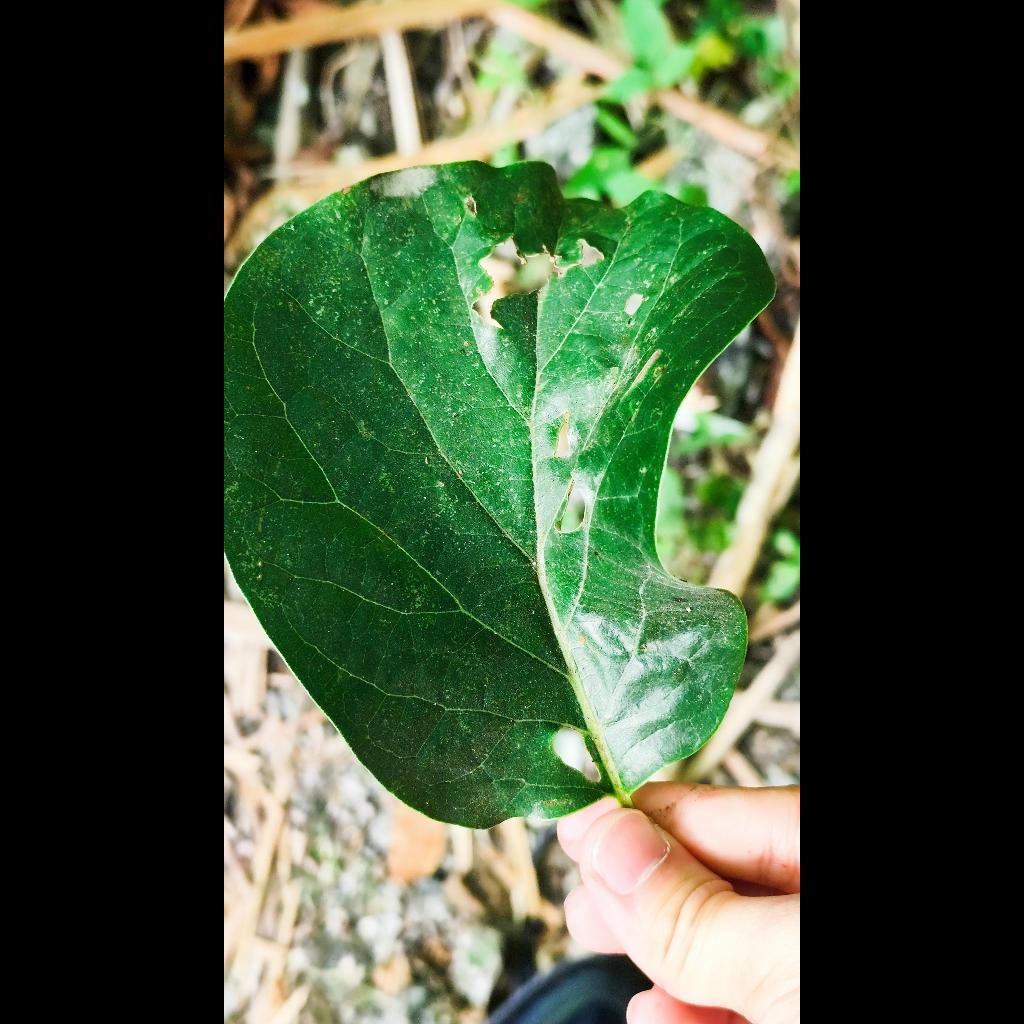plaga: (224, 162, 771, 827)
